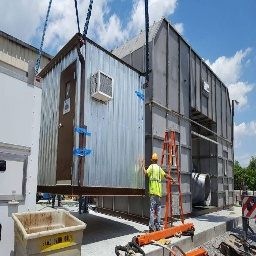helmet: (150, 150, 159, 165)
person: (148, 154, 164, 236)
vest: (146, 164, 165, 202)
